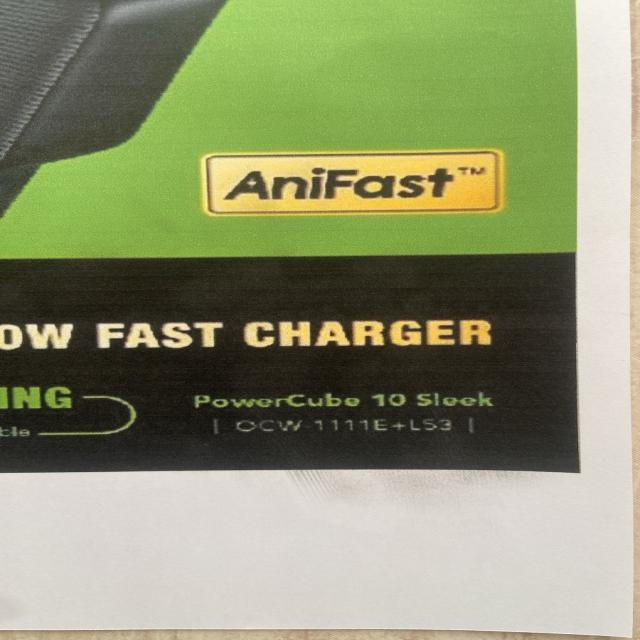PowerCube 10 Sleek OCW-1111ExL53: (186, 390, 502, 442)
